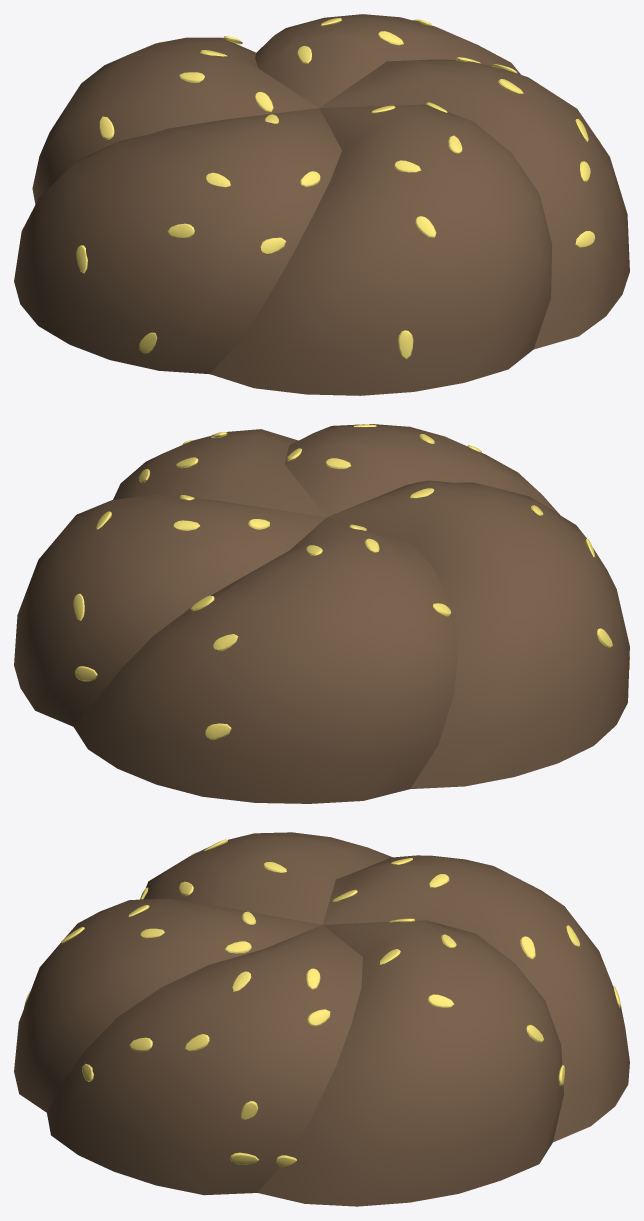
Rendered from Burger Bread I.fbx.
3 views of the same model, one above another, from view 1: azimuth 30°, elevation 25°; view 2: azimuth 150°, elevation 25°; view 3: azimuth 270°, elevation 25° (orthographic). The views are drawn at different scales.
Parts seen in each view (by area): view 1: Burger Bread I; view 2: Burger Bread I; view 3: Burger Bread I.
Part boxes in pixels (x1,y1,x2,y2): Burger Bread I: (14, 14, 629, 395); Burger Bread I: (14, 424, 629, 803); Burger Bread I: (14, 832, 629, 1206).
Size of the model in its own units: 0.7438 by 0.2398 by 0.7457.
